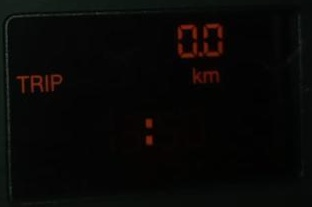-: (197, 49, 202, 58)
0: (202, 21, 225, 56), (176, 23, 197, 58)
X: (140, 112, 156, 149), (15, 72, 29, 94), (202, 69, 219, 85), (50, 72, 63, 91), (30, 73, 42, 93), (190, 64, 201, 85), (44, 72, 49, 93)
